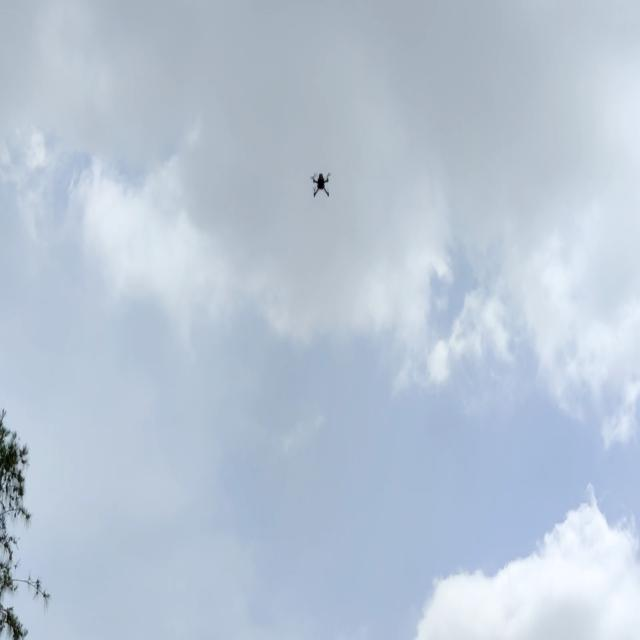drone: (306, 172, 337, 204)
